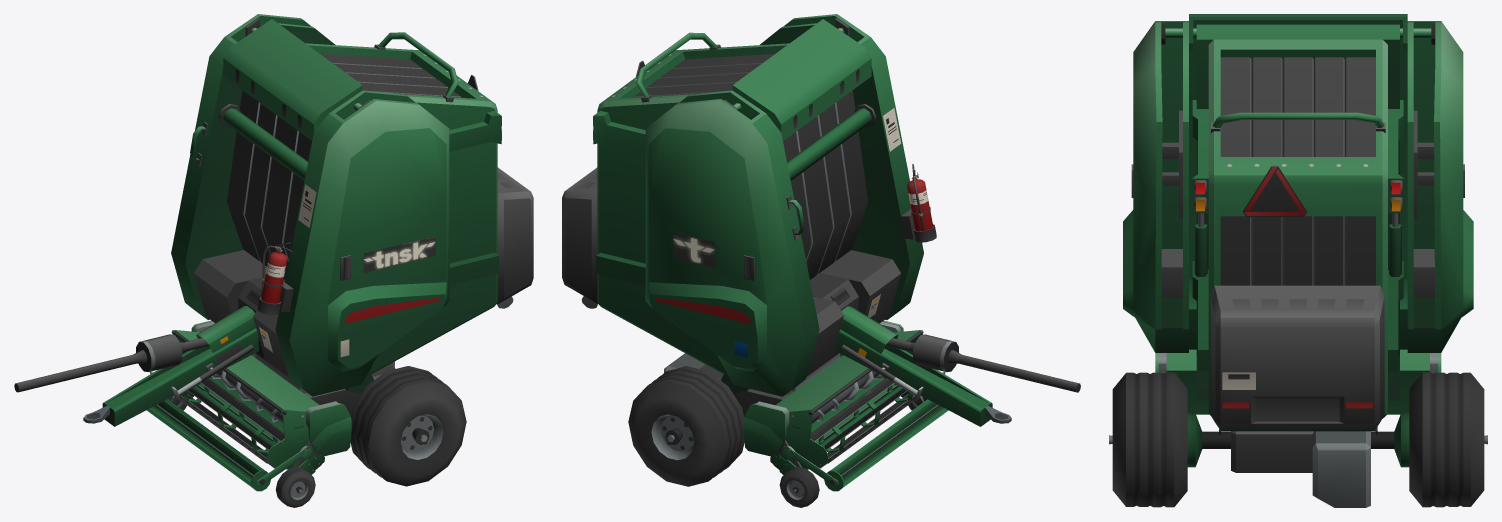
File: TFP_Round_Baler_01A.fbx
3 views of the same model, side by side, from view 1: azimuth 30°, elevation 25°; view 2: azimuth 150°, elevation 25°; view 3: azimuth 270°, elevation 25° (orthographic). The views are drawn at different scales.
Parts seen in each view (by area): view 1: TFP_Round_Baler_01A_LOD0, TFP_Round_Baler_01A_Tail_Gate_LOD0, TFP_Round_Baler_01A_Wheel_R.L_LOD0, TFP_Round_Baler_01A_Reel_LOD0, TFP_Round_Baler_01A_Roller_Baffle_LOD0, TFP_Round_Baler_01A_Wheel_F.L_LOD0, TFP_Round_Baler_01A_Extinguisher_LOD0, TFP_Round_Baler_01A_Auger_LOD0, TFP_Round_Baler_01A_Roller_Baffle_Arms_LOD0; view 2: TFP_Round_Baler_01A_LOD0, TFP_Round_Baler_01A_Tail_Gate_LOD0, TFP_Round_Baler_01A_Wheel_R.R_LOD0, TFP_Round_Baler_01A_Reel_LOD0, TFP_Round_Baler_01A_Roller_Baffle_LOD0, TFP_Round_Baler_01A_Wheel_F.R_LOD0, TFP_Round_Baler_01A_Extinguisher_LOD0, TFP_Round_Baler_01A_Auger_LOD0, TFP_Round_Baler_01A_Roller_Baffle_Arms_LOD0; view 3: TFP_Round_Baler_01A_Tail_Gate_LOD0, TFP_Round_Baler_01A_LOD0, TFP_Round_Baler_01A_Wheel_R.L_LOD0, TFP_Round_Baler_01A_Wheel_R.R_LOD0.
Part boxes in pixels (x1=…): TFP_Round_Baler_01A_LOD0: x1=14, y1=14, x2=449, y2=474; TFP_Round_Baler_01A_Tail_Gate_LOD0: x1=306, y1=32, x2=533, y2=393; TFP_Round_Baler_01A_Wheel_R.L_LOD0: x1=350, y1=366, x2=466, y2=486; TFP_Round_Baler_01A_Reel_LOD0: x1=174, y1=378, x2=293, y2=468; TFP_Round_Baler_01A_Roller_Baffle_LOD0: x1=146, y1=399, x2=265, y2=487; TFP_Round_Baler_01A_Wheel_F.L_LOD0: x1=275, y1=467, x2=315, y2=507; TFP_Round_Baler_01A_Extinguisher_LOD0: x1=261, y1=242, x2=292, y2=303; TFP_Round_Baler_01A_Auger_LOD0: x1=211, y1=370, x2=283, y2=423; TFP_Round_Baler_01A_Roller_Baffle_Arms_LOD0: x1=251, y1=450, x2=302, y2=491; TFP_Round_Baler_01A_LOD0: x1=645, y1=14, x2=1080, y2=474; TFP_Round_Baler_01A_Tail_Gate_LOD0: x1=562, y1=32, x2=789, y2=394; TFP_Round_Baler_01A_Wheel_R.R_LOD0: x1=628, y1=366, x2=744, y2=486; TFP_Round_Baler_01A_Reel_LOD0: x1=801, y1=378, x2=920, y2=468; TFP_Round_Baler_01A_Roller_Baffle_LOD0: x1=830, y1=399, x2=948, y2=487; TFP_Round_Baler_01A_Wheel_F.R_LOD0: x1=779, y1=466, x2=819, y2=507; TFP_Round_Baler_01A_Extinguisher_LOD0: x1=907, y1=164, x2=933, y2=231; TFP_Round_Baler_01A_Auger_LOD0: x1=812, y1=370, x2=883, y2=423; TFP_Round_Baler_01A_Roller_Baffle_Arms_LOD0: x1=792, y1=450, x2=843, y2=491; TFP_Round_Baler_01A_Tail_Gate_LOD0: x1=1192, y1=24, x2=1404, y2=435; TFP_Round_Baler_01A_LOD0: x1=1123, y1=14, x2=1473, y2=507; TFP_Round_Baler_01A_Wheel_R.L_LOD0: x1=1109, y1=372, x2=1187, y2=507; TFP_Round_Baler_01A_Wheel_R.R_LOD0: x1=1409, y1=372, x2=1487, y2=507.
Size of what is drawn, in the model's own units: 6.45 by 4.92 by 3.61.
